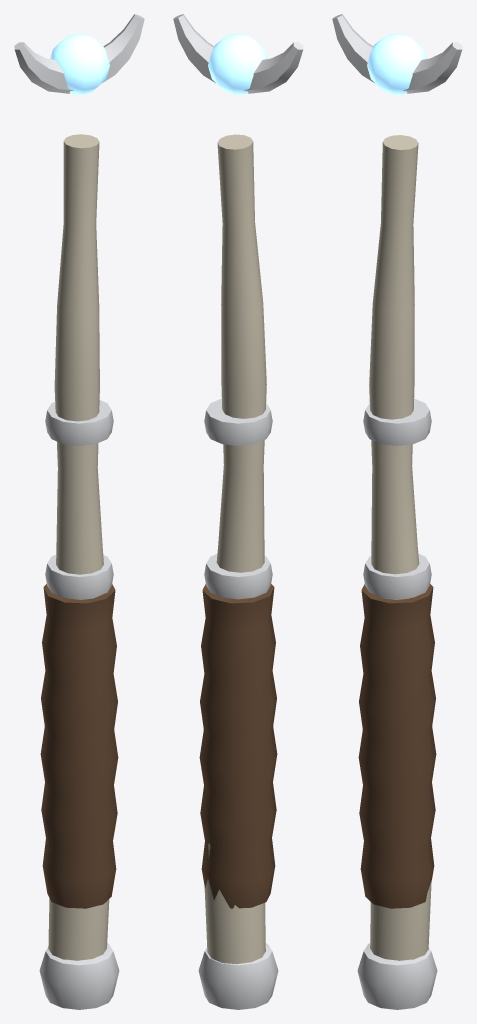
File: depth_icepetal_wand.glb
3 renders of one model, left to right at view 1: azimuth 30°, elevation 25°; view 2: azimuth 150°, elevation 25°; view 3: azimuth 330°, elevation 25°, orthographic.
Visible parts, largest first — view 1: depth_icepetal_wand; view 2: depth_icepetal_wand; view 3: depth_icepetal_wand.
Boxes of the visible parts, bbox=[...] form: depth_icepetal_wand: bbox=[14, 14, 144, 1009]; depth_icepetal_wand: bbox=[173, 14, 303, 1009]; depth_icepetal_wand: bbox=[332, 14, 462, 1009].
Bounding box in the file's own units: 0.0486 × 0.3507 × 0.026.
